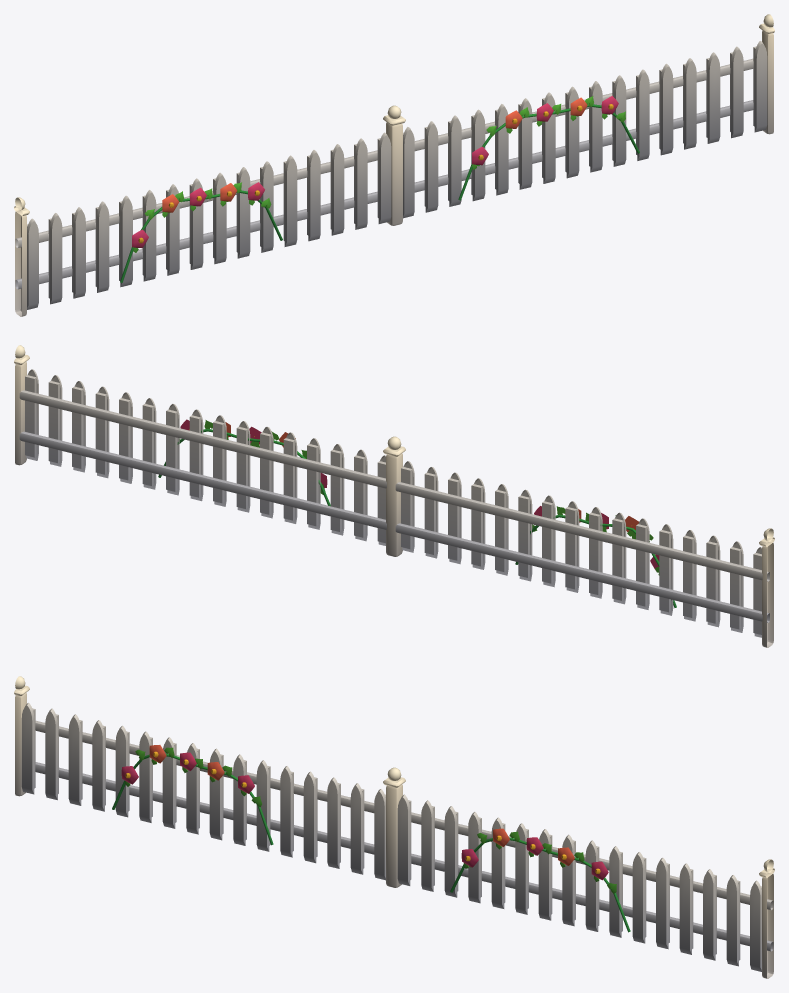
Rendered from garden_fence.glb.
3 views of the same model, one above another, from view 1: azimuth 30°, elevation 25°; view 2: azimuth 150°, elevation 25°; view 3: azimuth 330°, elevation 25° (orthographic).
Visible parts, largest first — view 1: garden_fence; view 2: garden_fence; view 3: garden_fence.
Boxes of the visible parts, <box> form: garden_fence: <box>14,14,774,316</box>; garden_fence: <box>14,345,774,647</box>; garden_fence: <box>14,676,774,978</box>.
Size of the model in its own units: 8 by 1.19 by 0.2549.
